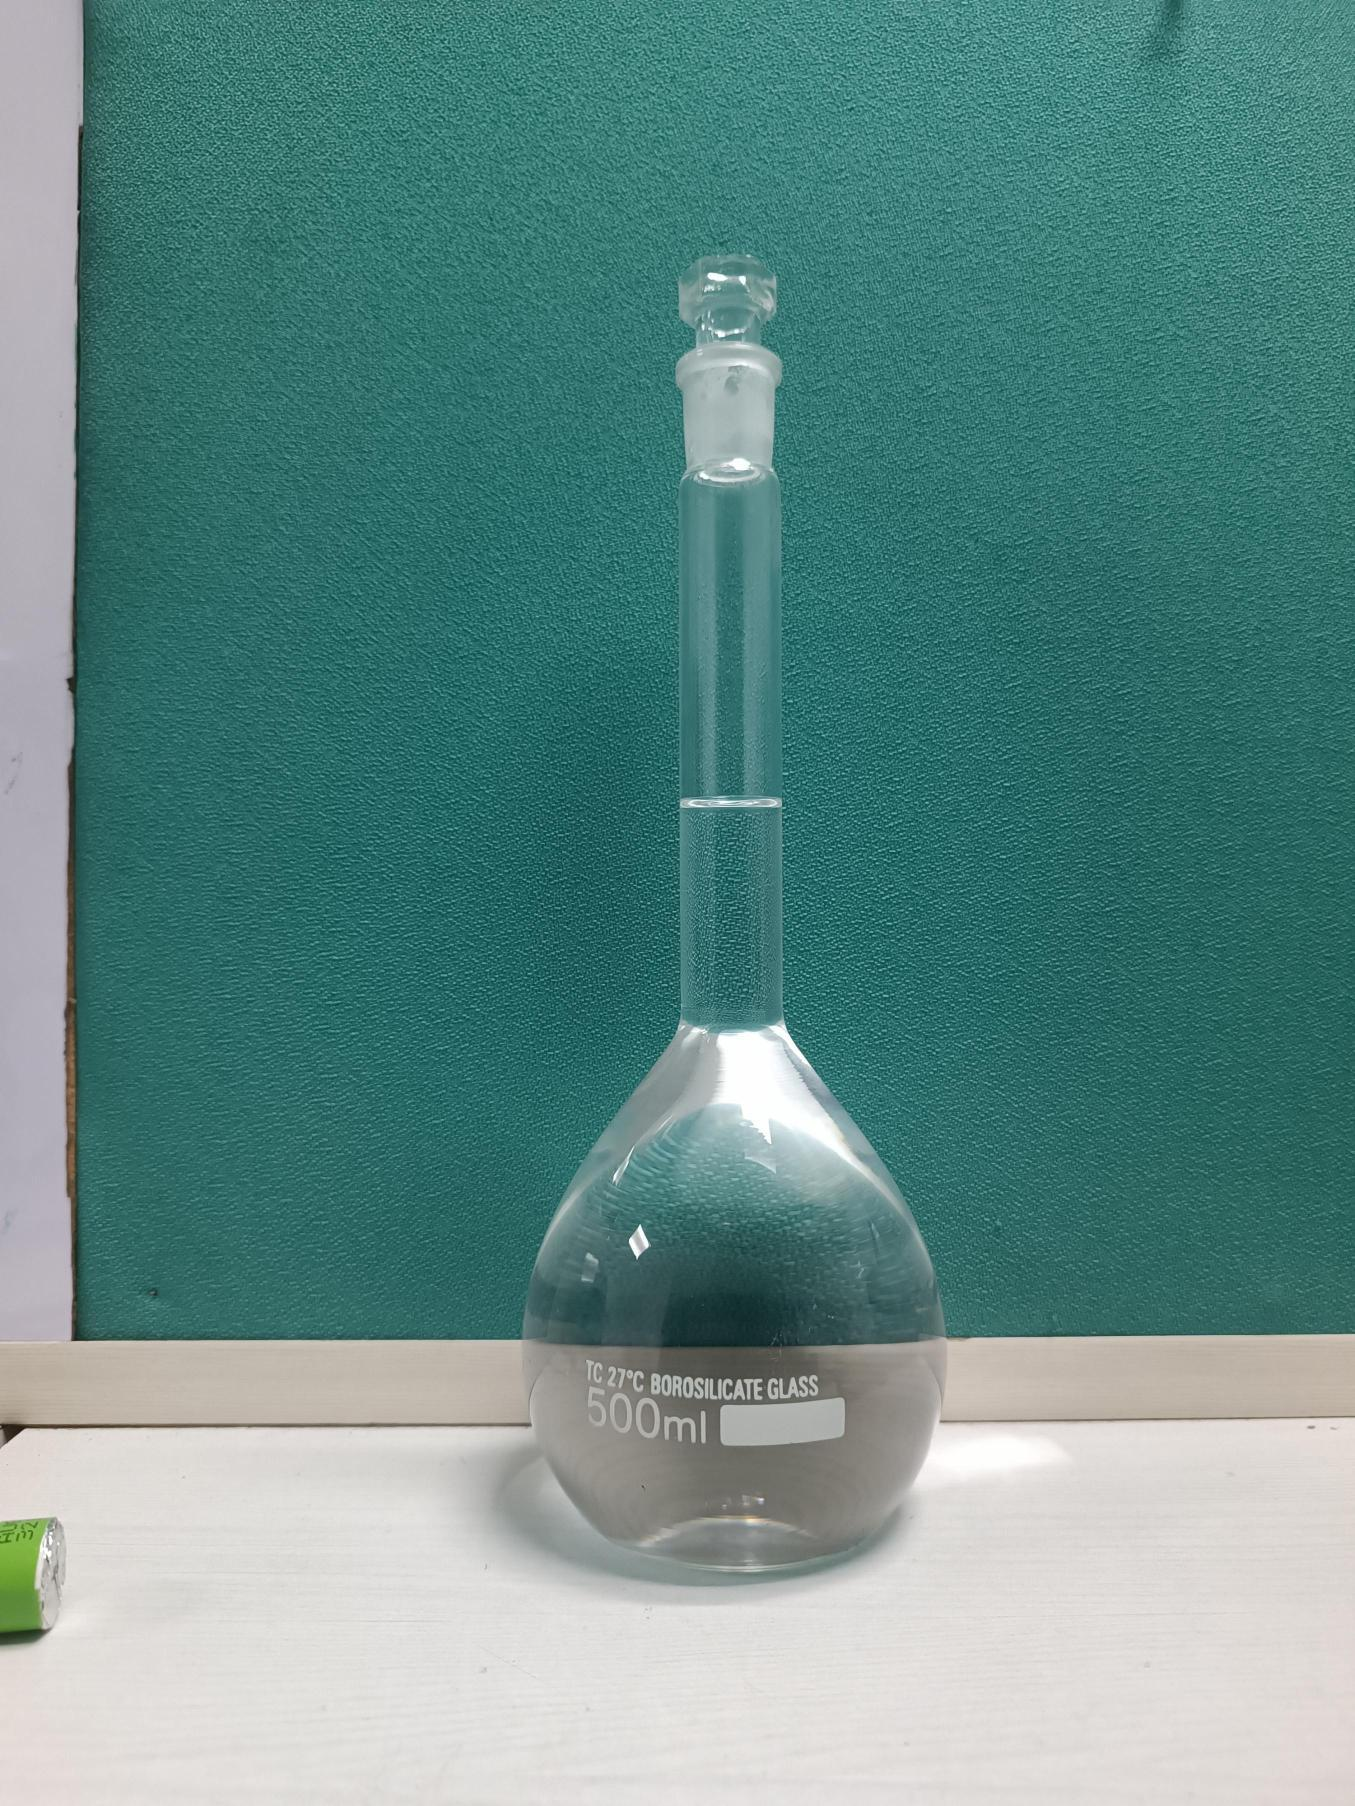Volumetric flask: (512, 174, 961, 1577)
